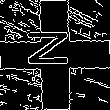N_E: (29, 35, 81, 75)
